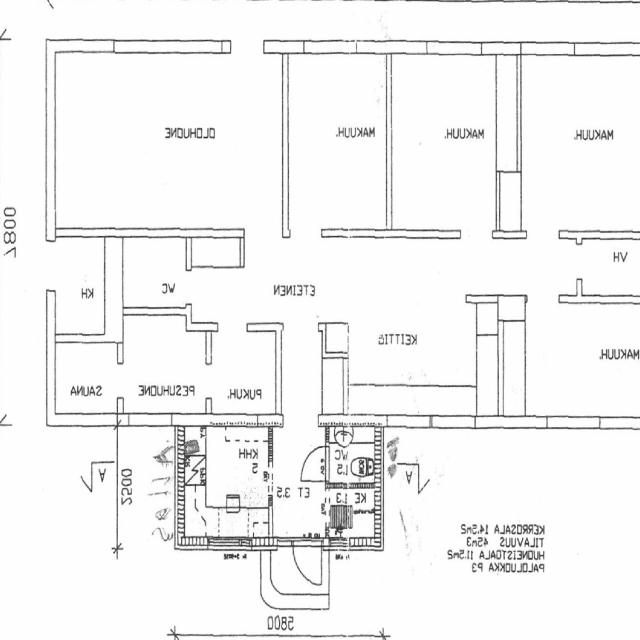door: (294, 537, 322, 588), (300, 447, 330, 481)
